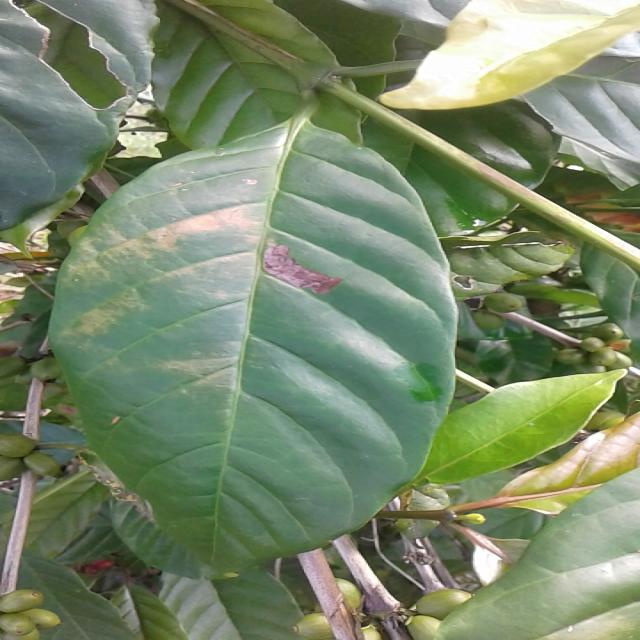Plaga-AranaRoja: (47, 110, 458, 578)
